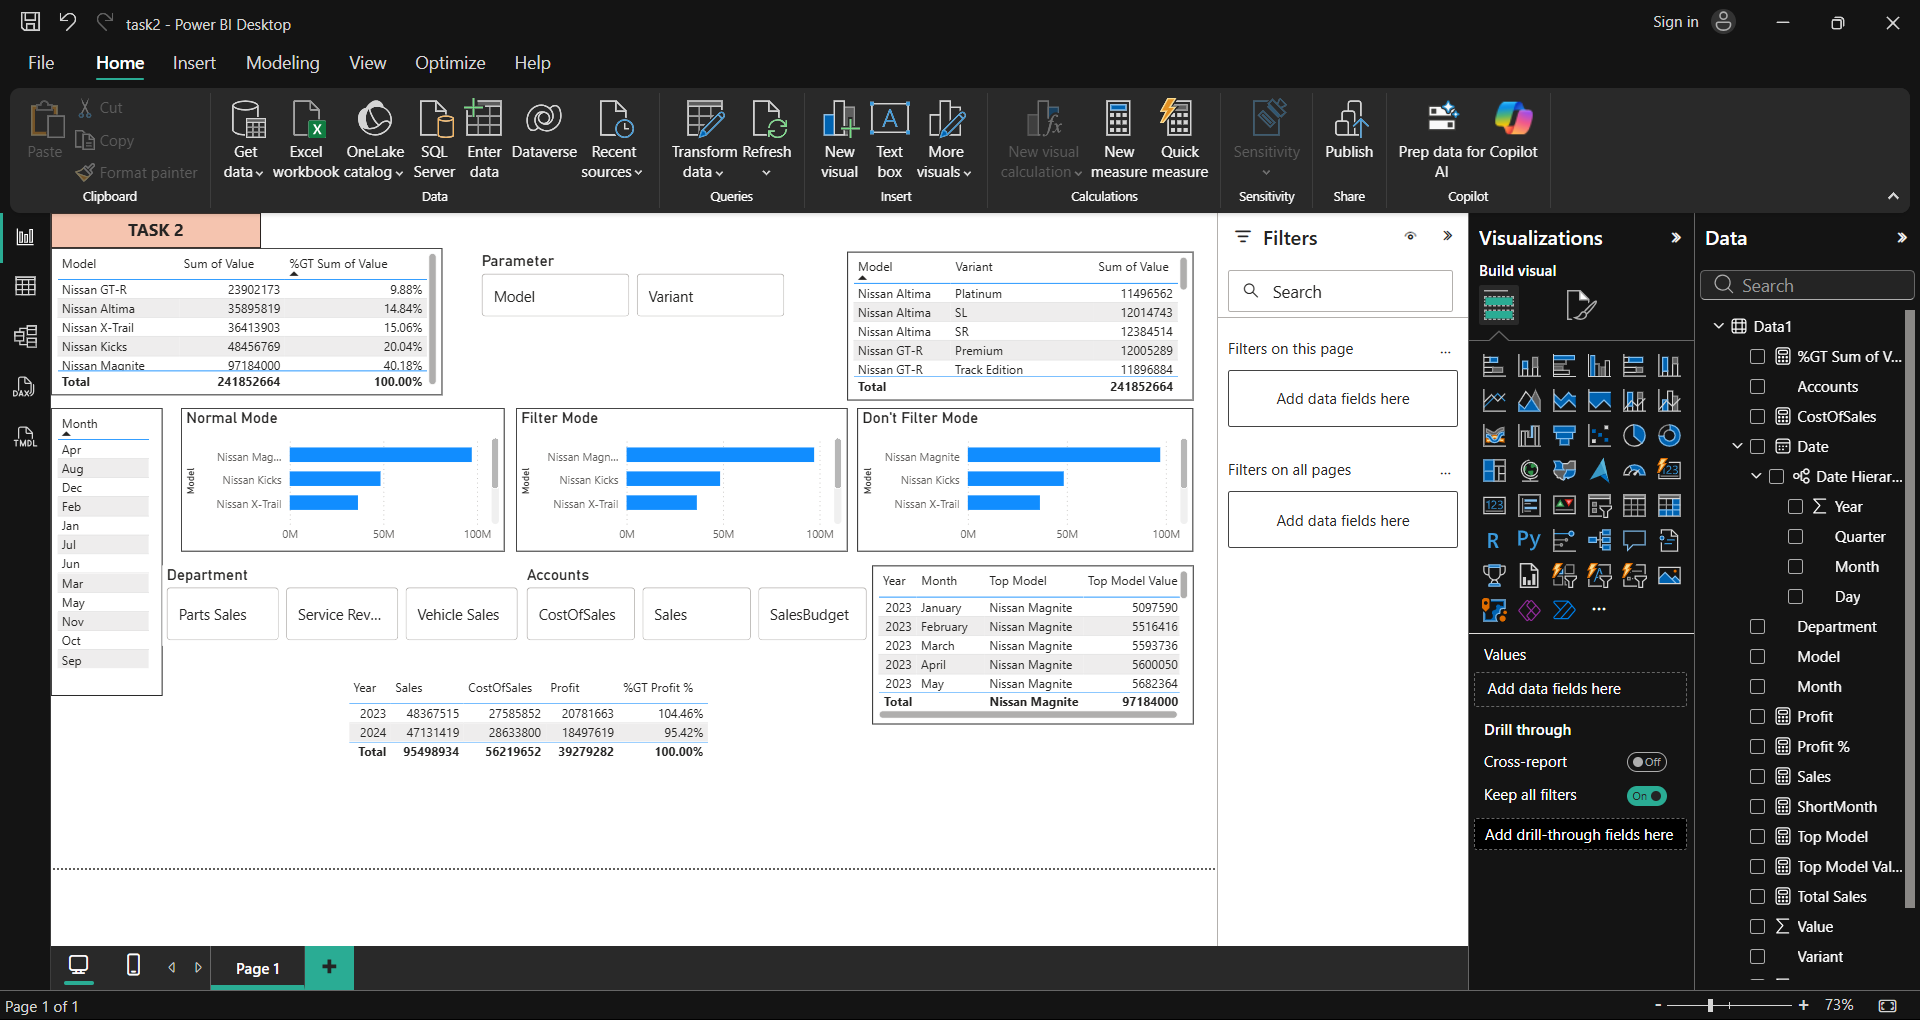

The dashboard page shown, as its layout file describes it:
{"tool":"powerbi","page":{"name":"Page 1","canvas":[1280,720],"ordinal":0},"visuals":[{"type":"tableEx","fields":{"Values":["Data1.Model","Sum(Data1.Value)","Data1.%GT Sum of Value"]},"box":[0,38.4,429.5,161.9],"z":0},{"type":"advancedSlicerVisual","fields":{"Values":["Parameter.Parameter"]},"box":[467.9,42.5,343.1,76.8],"z":1000},{"type":"tableEx","fields":{"Values":["Data1.Month"]},"box":[0,214.1,122.1,315.6],"z":2000},{"type":"clusteredBarChart","title":"Normal Mode","fields":{"Category":["Data1.Model"],"Y":["Sum(Data1.Value)"]},"box":[142.7,214.1,355.4,157.8],"z":3000},{"type":"clusteredBarChart","title":"Don''t Filter Mode","fields":{"Category":["Data1.Model"],"Y":["Sum(Data1.Value)"]},"box":[885.1,214.1,369.1,157.8],"z":4000},{"type":"clusteredBarChart","title":"Filter Mode","fields":{"Category":["Data1.Model"],"Y":["Sum(Data1.Value)"]},"box":[510.5,214.1,363.6,157.8],"z":5000},{"type":"tableEx","fields":{"Values":["Data1.Model","Data1.Variant","Sum(Data1.Value)"]},"box":[874.1,42.5,380.1,163.3],"z":6000},{"type":"advancedSlicerVisual","fields":{"Values":["Data1.Department"]},"box":[122.1,387,395.2,87.8],"z":7000},{"type":"advancedSlicerVisual","fields":{"Values":["Data1.Accounts"]},"box":[517.3,387,384.2,87.8],"z":8000},{"type":"tableEx","fields":{"Values":["Data1.Date.Variation.Date Hierarchy.Year","Data1.Date.Variation.Date Hierarchy.Month","Data1.Top Model","Data1.Top Model Value"]},"box":[901.5,387,352.7,174.3],"z":9000},{"type":"textbox","box":[0,0,230.5,38.4],"z":10000},{"type":"tableEx","fields":{"Values":["Data1.Date.Variation.Date Hierarchy.Year","Data1.Sales","Data1.CostOfSales","Data1.Profit","Data1.Profit %"]},"box":[477.5,474.8,407.5,190.7],"z":10002}]}

Visuals, with their boxes on the page's 1280x720 design canvas (x1, y1, x2, y2). These are canvas units, not pixel positions in the 1920x1020 screenshot, which may show the page scaled, cropped or inside an application window:
tableEx - Data1.Model x Sum(Data1.Value): x1=0, y1=38, x2=430, y2=200
advancedSlicerVisual - Parameter.Parameter: x1=468, y1=42, x2=811, y2=119
tableEx - Data1.Month: x1=0, y1=214, x2=122, y2=530
"Normal Mode" clusteredBarChart: x1=143, y1=214, x2=498, y2=372
"Don''t Filter Mode" clusteredBarChart: x1=885, y1=214, x2=1254, y2=372
"Filter Mode" clusteredBarChart: x1=510, y1=214, x2=874, y2=372
tableEx - Data1.Model x Data1.Variant: x1=874, y1=42, x2=1254, y2=206
advancedSlicerVisual - Data1.Department: x1=122, y1=387, x2=517, y2=475
advancedSlicerVisual - Data1.Accounts: x1=517, y1=387, x2=902, y2=475
tableEx - Data1.Date.Variation.Date Hierarchy.Year x Data1.Date.Variation.Date Hierarchy.Month: x1=902, y1=387, x2=1254, y2=561
textbox: x1=0, y1=0, x2=230, y2=38
tableEx - Data1.Date.Variation.Date Hierarchy.Year x Data1.Sales: x1=478, y1=475, x2=885, y2=666
